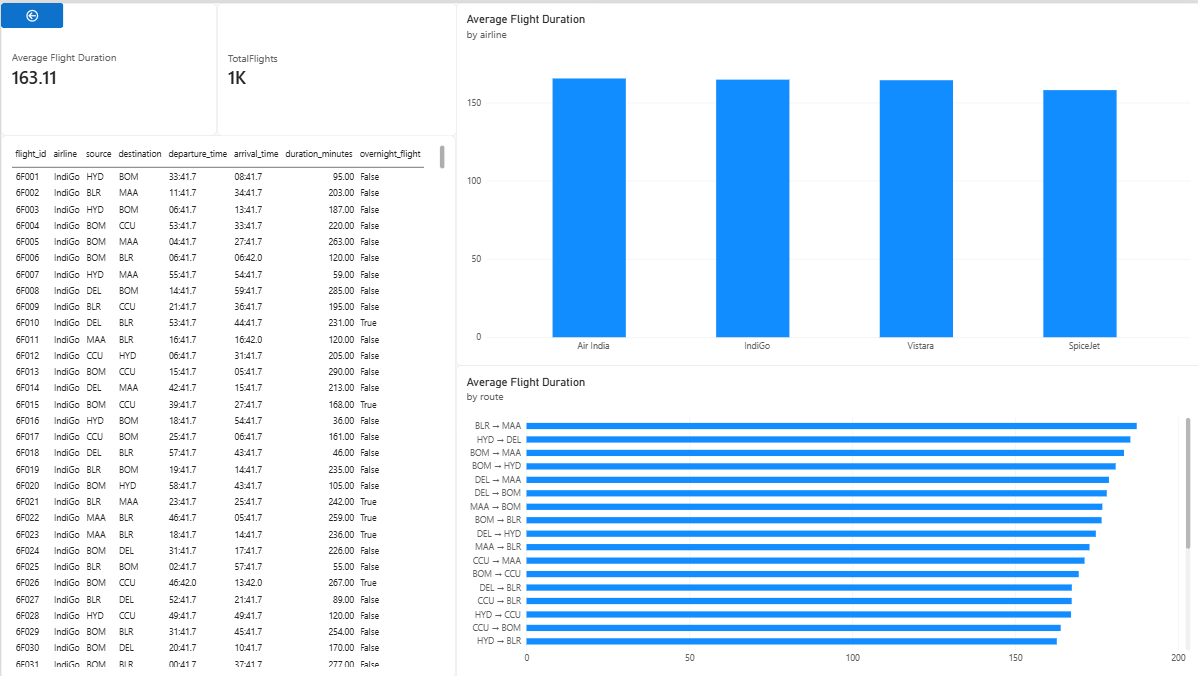

Layout of this report page (visuals, bound fields, positions):
{"tool":"powerbi","page":{"name":"Duration Analysis","canvas":[1920,1080],"ordinal":1},"visuals":[{"type":"cardVisual","fields":{"Data":["bookings.Average Flight Duration"]},"box":[0,0,345,212.5],"z":0},{"type":"clusteredColumnChart","fields":{"Category":["flights.airline"],"Y":["bookings.Average Flight Duration"]},"box":[727.5,0,1192.5,580],"z":1000},{"type":"clusteredBarChart","fields":{"Category":["flights.route"],"Y":["bookings.Average Flight Duration"]},"box":[727.5,580,1192.5,500],"z":2000},{"type":"tableEx","fields":{"Values":["flights.flight_id","flights.airline","flights.source","flights.destination","flights.departure_time","flights.arrival_time","flights.duration_minutes","flights.overnight_flight"]},"box":[0,212.5,727.5,867.5],"z":3000},{"type":"actionButton","box":[0,0,100,40],"z":4000},{"type":"cardVisual","fields":{"Data":["bookings.TotalFlights"]},"box":[345,0,383,213],"z":5000}]}

Visuals, with their boxes on the page's 1920x1080 design canvas (x1, y1, x2, y2). These are canvas units, not pixel positions in the 1198x676 screenshot, which may show the page scaled, cropped or inside an application window:
cardVisual - bookings.Average Flight Duration: locate(0, 0, 345, 212)
clusteredColumnChart - flights.airline x bookings.Average Flight Duration: locate(728, 0, 1920, 580)
clusteredBarChart - flights.route x bookings.Average Flight Duration: locate(728, 580, 1920, 1080)
tableEx - flights.flight_id x flights.airline: locate(0, 212, 728, 1080)
actionButton: locate(0, 0, 100, 40)
cardVisual - bookings.TotalFlights: locate(345, 0, 728, 213)
